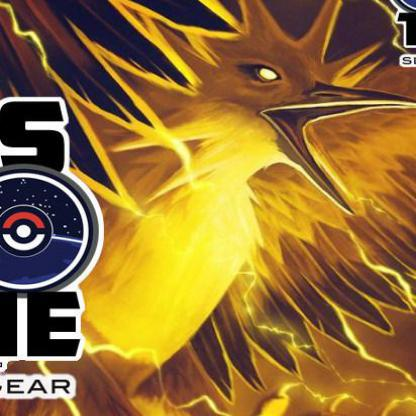Zapdos: (1, 1, 416, 416)
